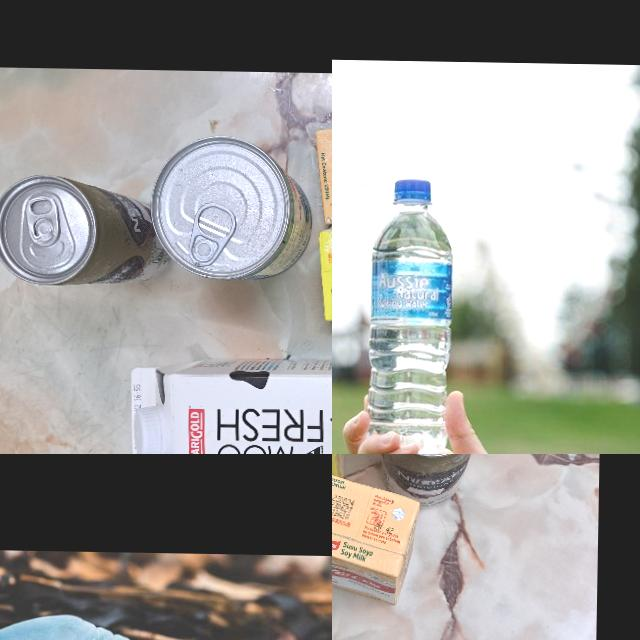aba de lata: (186, 201, 236, 266), (24, 194, 60, 244)
caixinha: (126, 355, 332, 454), (332, 470, 420, 606)
garrafa plástica: (368, 201, 455, 454)
lata: (152, 133, 310, 285), (0, 172, 169, 287), (379, 454, 484, 504)
tampa plástica: (130, 402, 168, 454), (394, 178, 432, 205)
